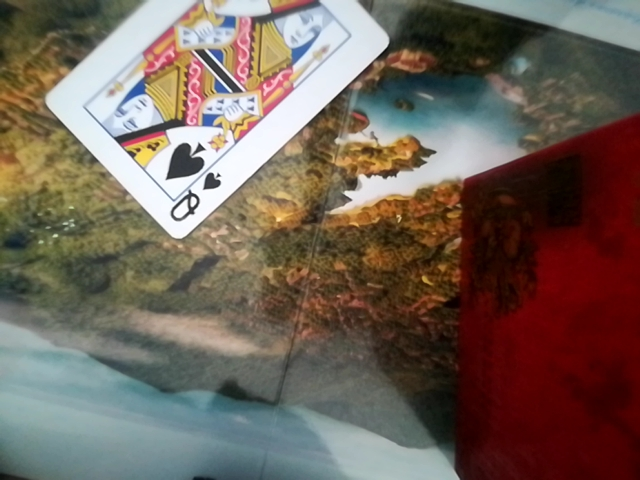ht q: (44, 0, 389, 245)
